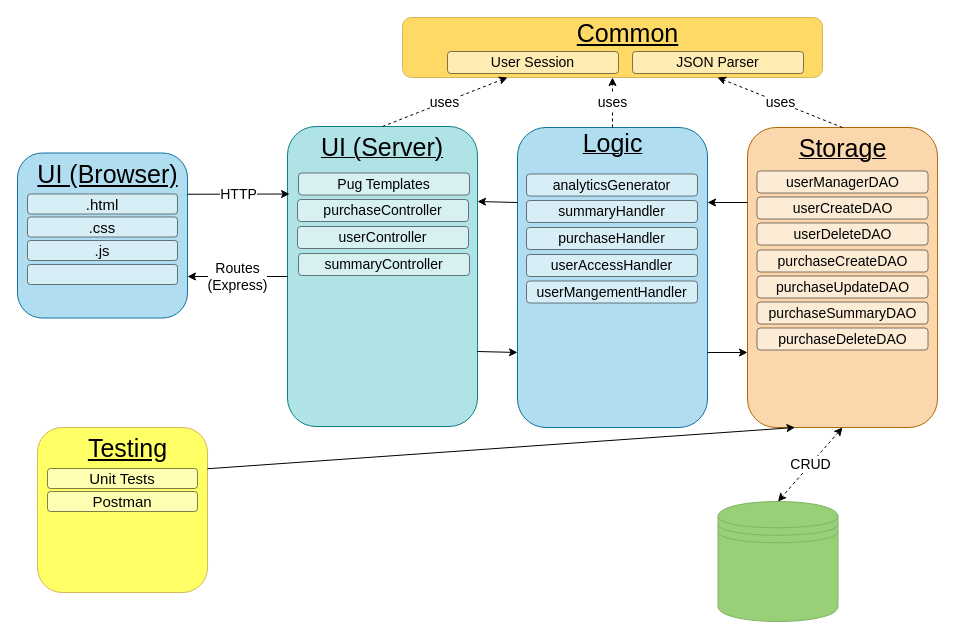
The diagram is 955 pixels wide and 639 high, and some of its shapes have lost their labels. The shapes that lost their labels are listed below. From the top down, each one's box as (x1, y1, x2, y2) in pixels, then its label:
(26, 264, 178, 284): Input Validation
(717, 500, 838, 622): MongoDB
